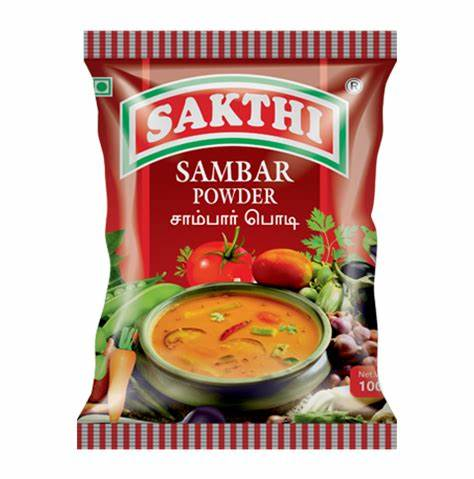VEG: (95, 77, 113, 96)
